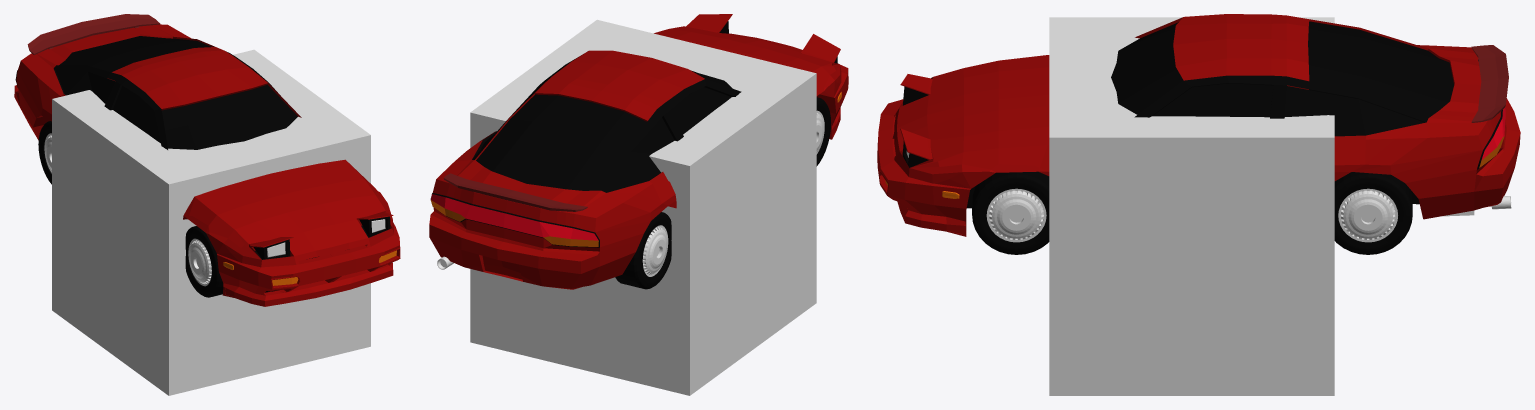
Rendered from nissendan.fbx.
3 renders of one model, left to right at view 1: azimuth 30°, elevation 25°; view 2: azimuth 150°, elevation 25°; view 3: azimuth 270°, elevation 25°, orthographic. The views are drawn at different scales.
Visible parts, largest first — view 1: Cube, Куб, Куб.001, Цилиндр.001, Куб.003, Цилиндр.003, Куб.004; view 2: Cube, Куб, Цилиндр.003, Куб.001, Цилиндр.001, Куб.003, Куб.004; view 3: Cube, Куб, Цилиндр, Цилиндр.002, Куб.001, Куб.004, Куб.003.
Boxes of the visible parts, x1,y1,x2,y2 form: Cube: (52, 49, 370, 395); Куб: (14, 24, 400, 306); Куб.001: (27, 14, 160, 54); Цилиндр.001: (185, 226, 223, 297); Куб.003: (249, 237, 293, 259); Цилиндр.003: (38, 121, 51, 184); Куб.004: (357, 212, 393, 237); Cube: (470, 19, 816, 395); Куб: (429, 26, 848, 289); Цилиндр.003: (615, 212, 671, 289); Куб.001: (443, 173, 587, 211); Цилиндр.001: (816, 97, 830, 166); Куб.003: (801, 34, 840, 64); Куб.004: (686, 14, 732, 33); Cube: (1049, 17, 1334, 395); Куб: (877, 14, 1520, 236); Цилиндр: (972, 171, 1049, 254); Цилиндр.002: (1334, 172, 1412, 254); Куб.001: (1471, 45, 1508, 122); Куб.004: (900, 128, 933, 167); Куб.003: (900, 74, 932, 105).
Size of what is drawn, in the model's own units: 200 by 230 by 451.
